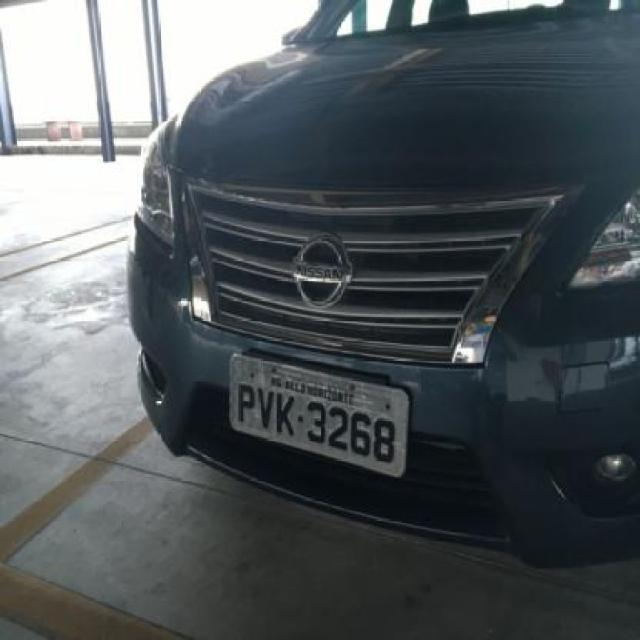old_plate: (223, 346, 418, 486)
